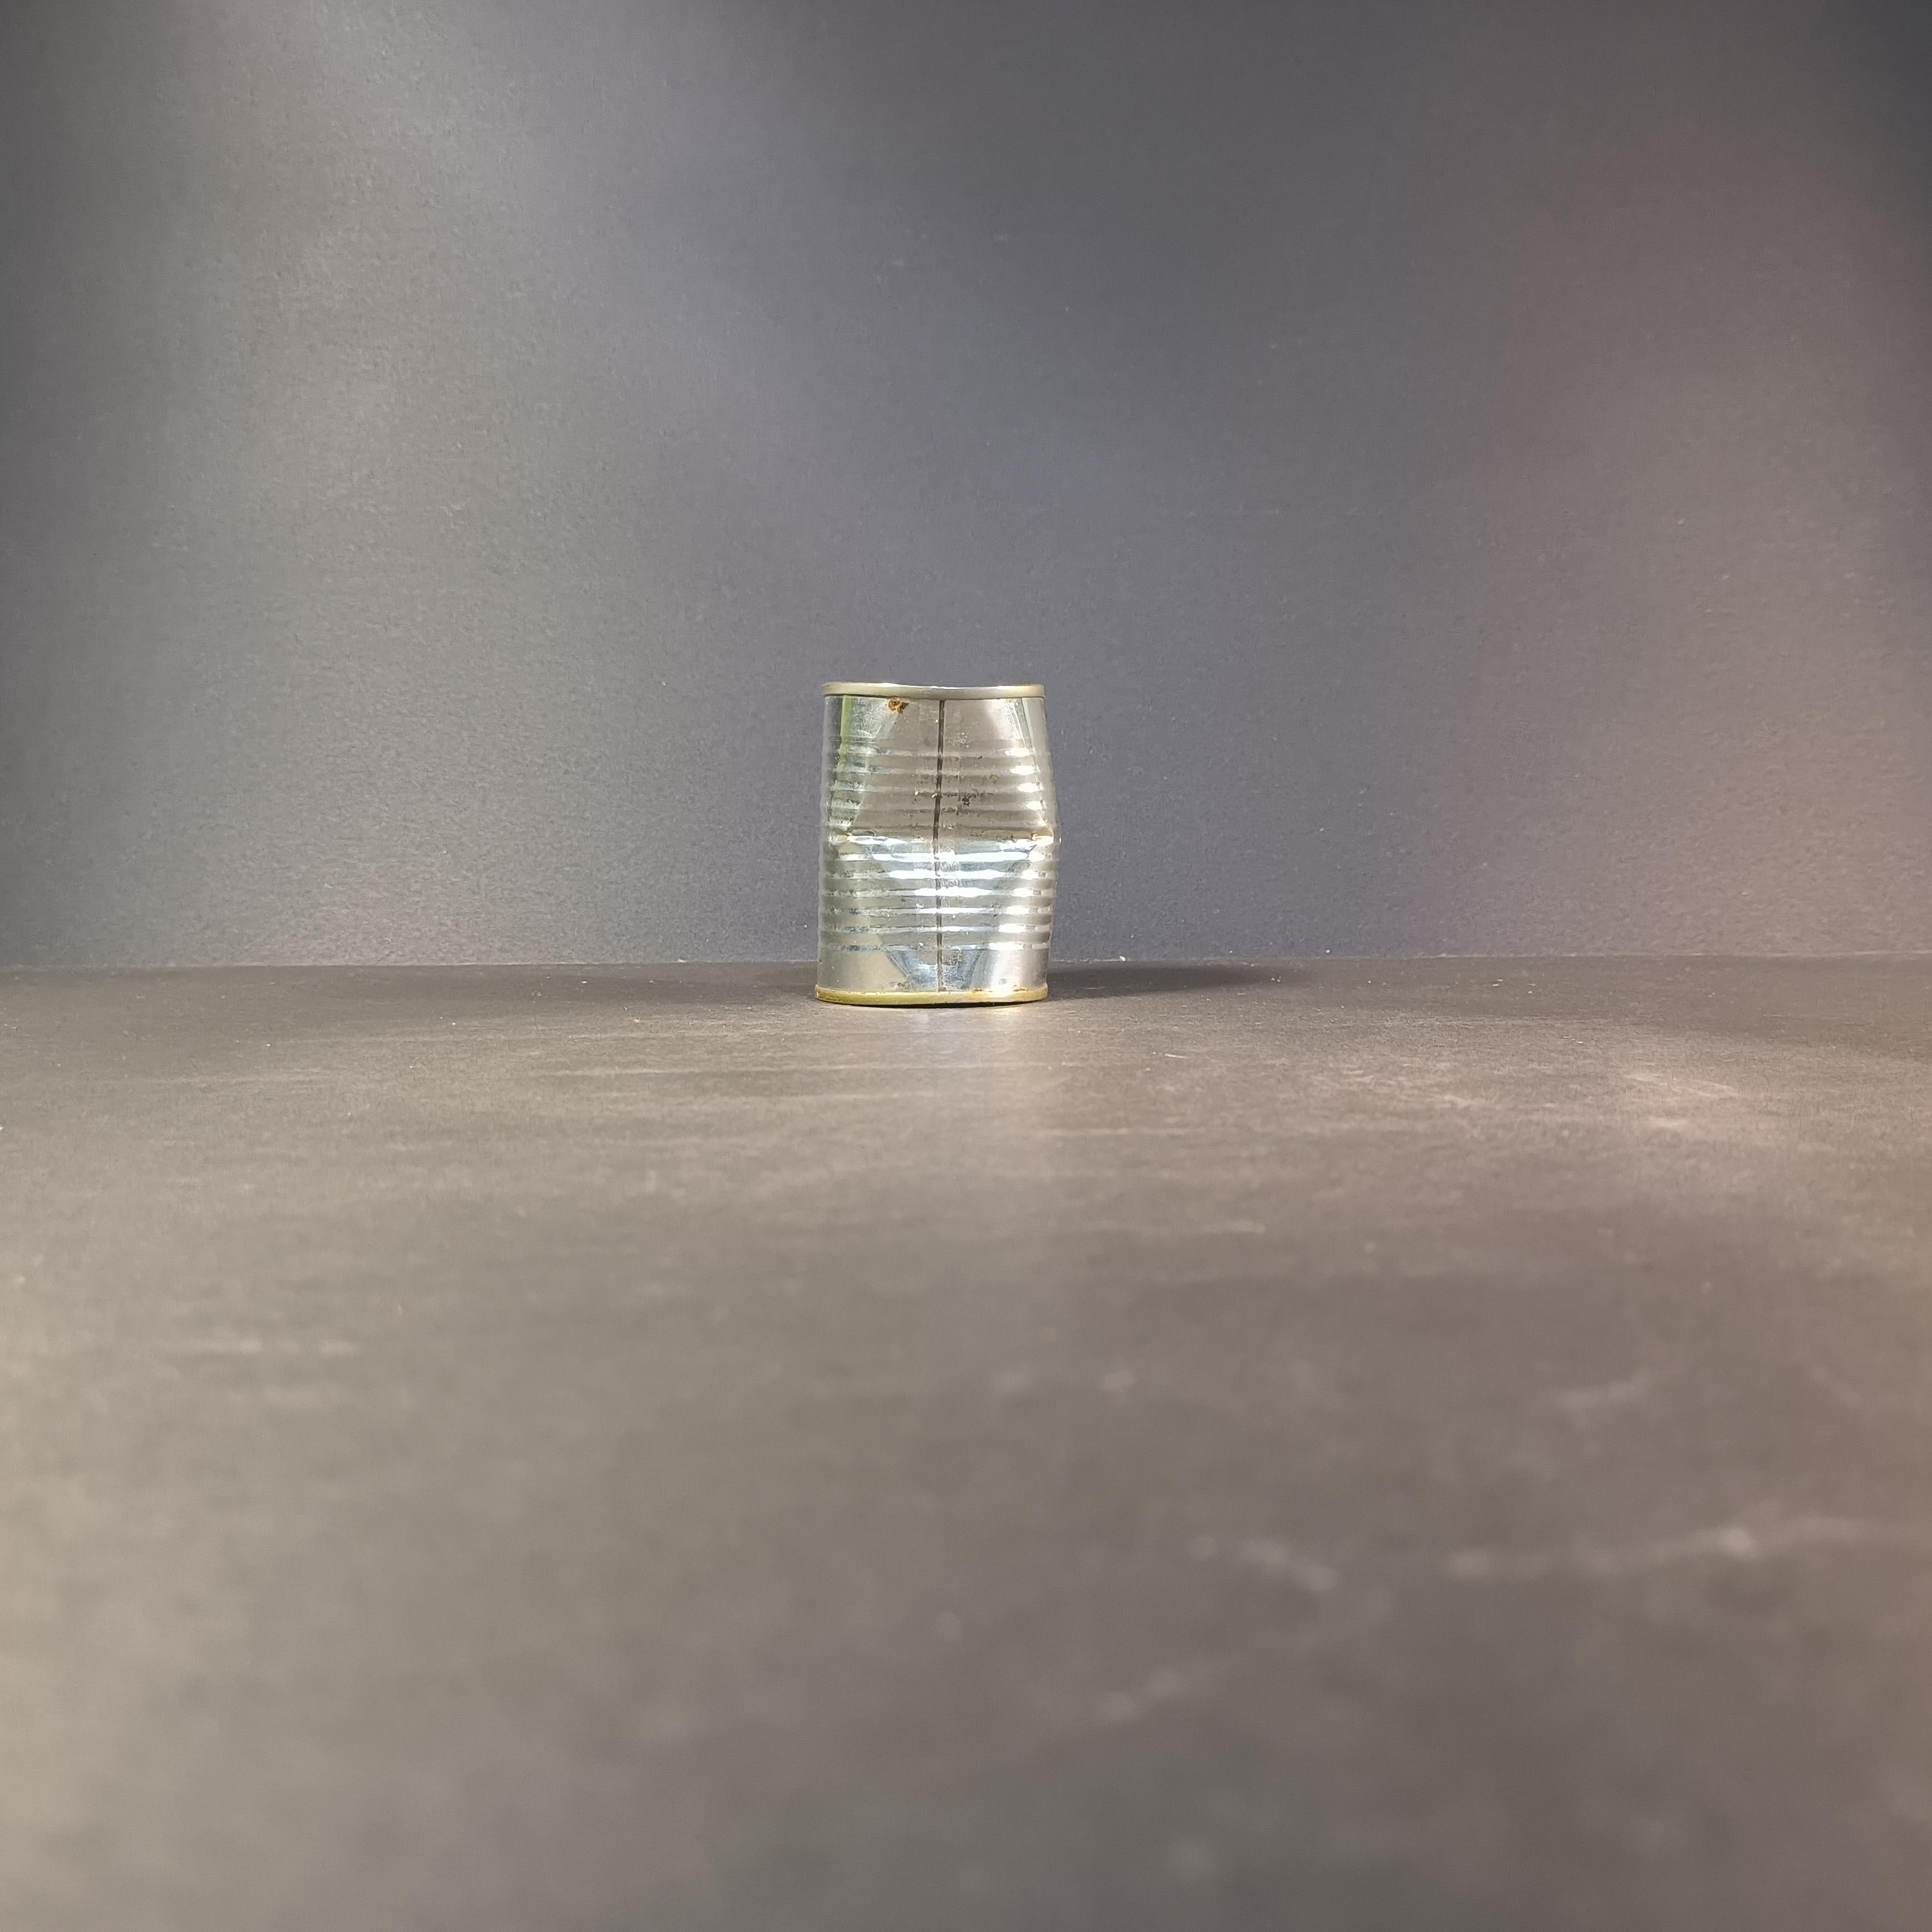Major Defect: (816, 681, 1062, 998)
